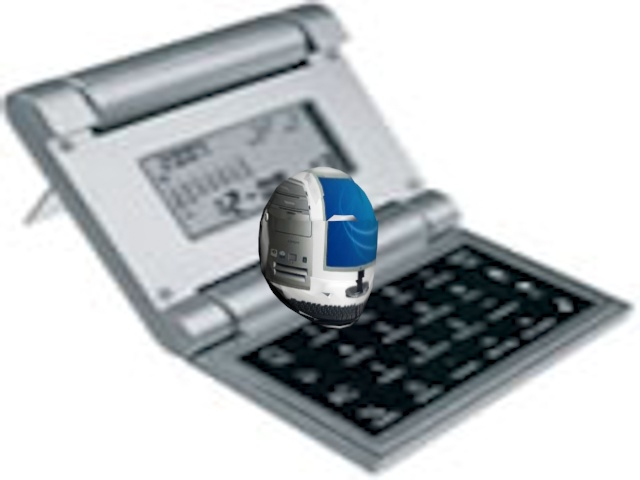bike_helmet: (257, 161, 385, 336)
